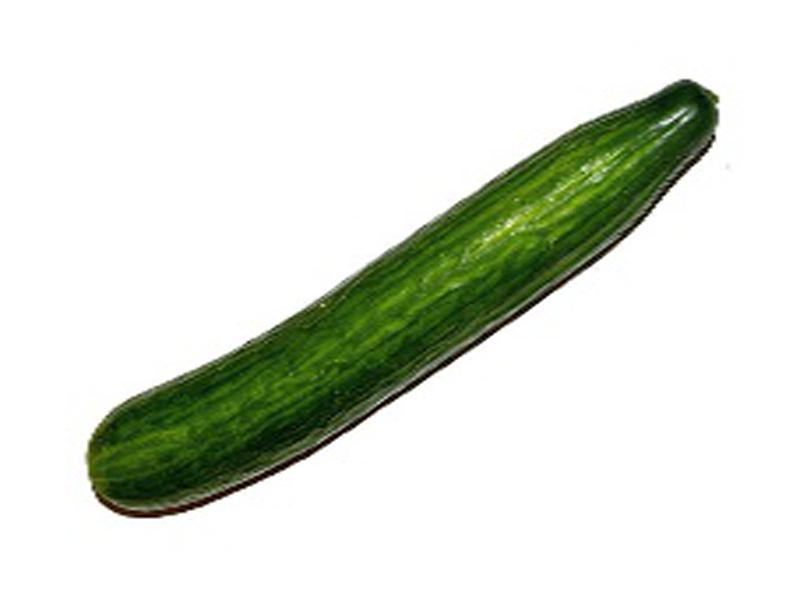Cucumber: (87, 79, 718, 515)
